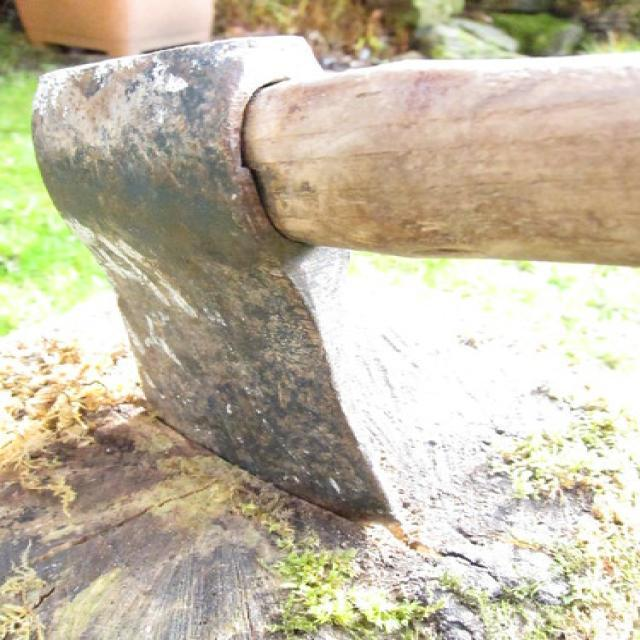Axe: (32, 36, 640, 518)
